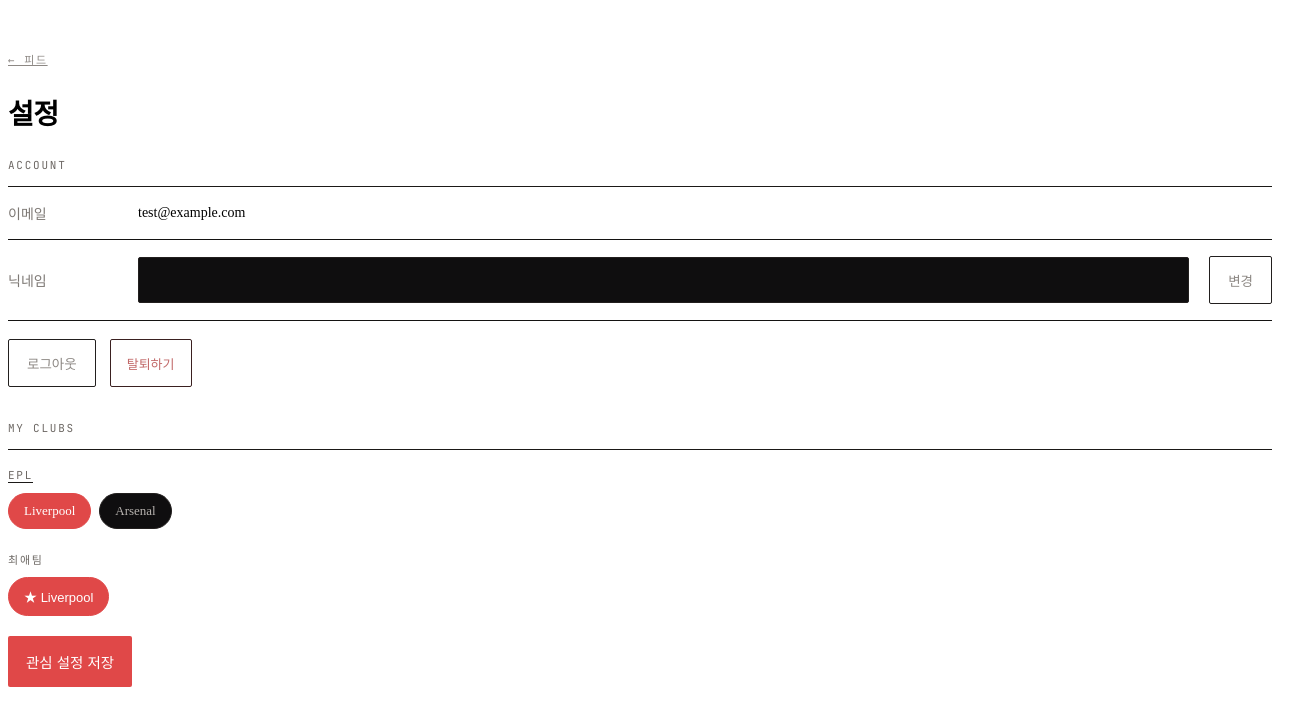
Test: SettingsPage › 최애팀 › 최애팀 구단의 관심 설정을 해제하면 최애팀 지정도 함께 풀린다
The image size is (1292, 707).
Expected: the button "★ Liverpool" is shown, [8, 577, 109, 616]
Click the checkbox labelled "Liverpool". click: [50, 511]
box: [8, 493, 91, 529]
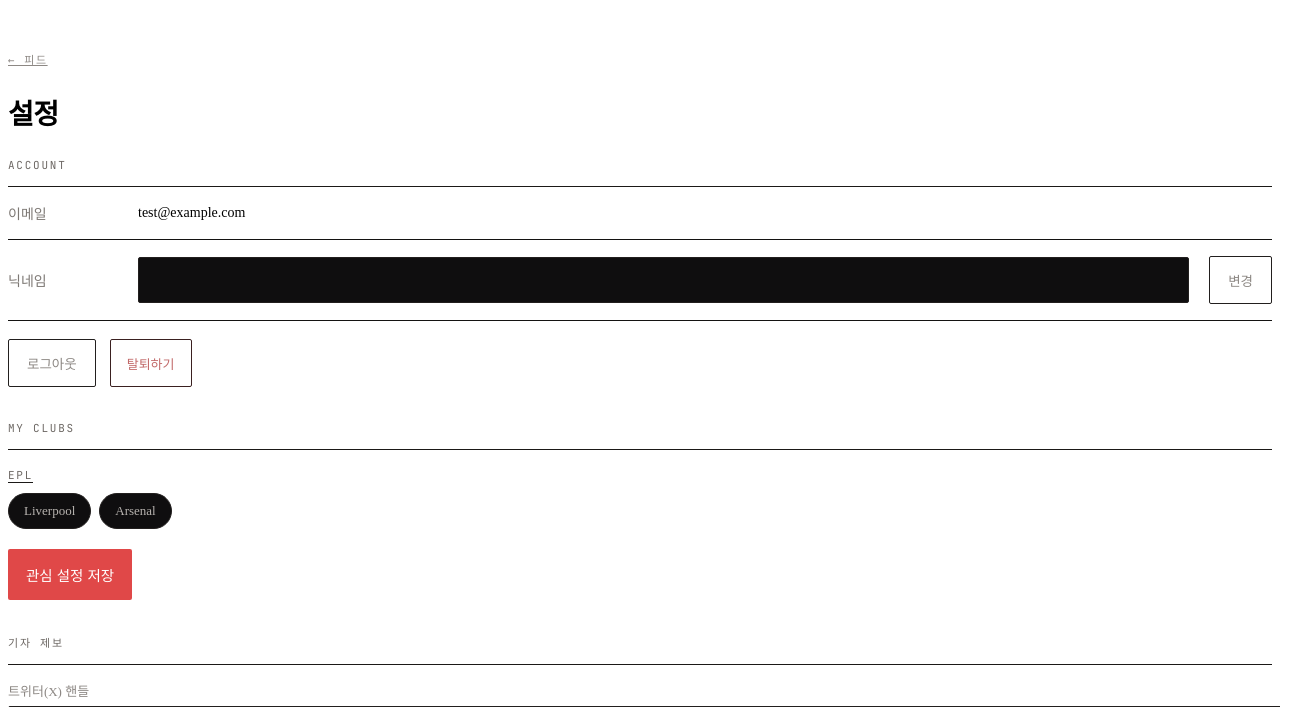
Result: the button "★ Liverpool" is gone
